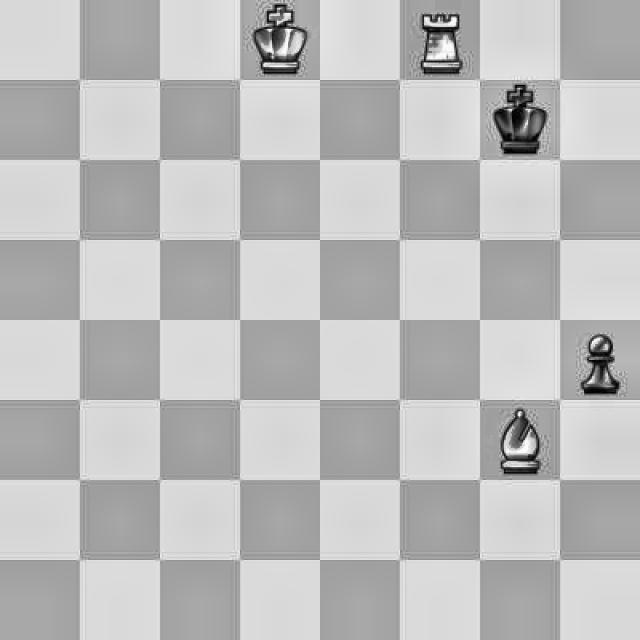black king: (482, 86, 558, 159)
black pawn: (562, 328, 636, 401)
white bishop: (485, 414, 554, 472)
white king: (243, 0, 315, 75)
white rook: (398, 0, 476, 77)
